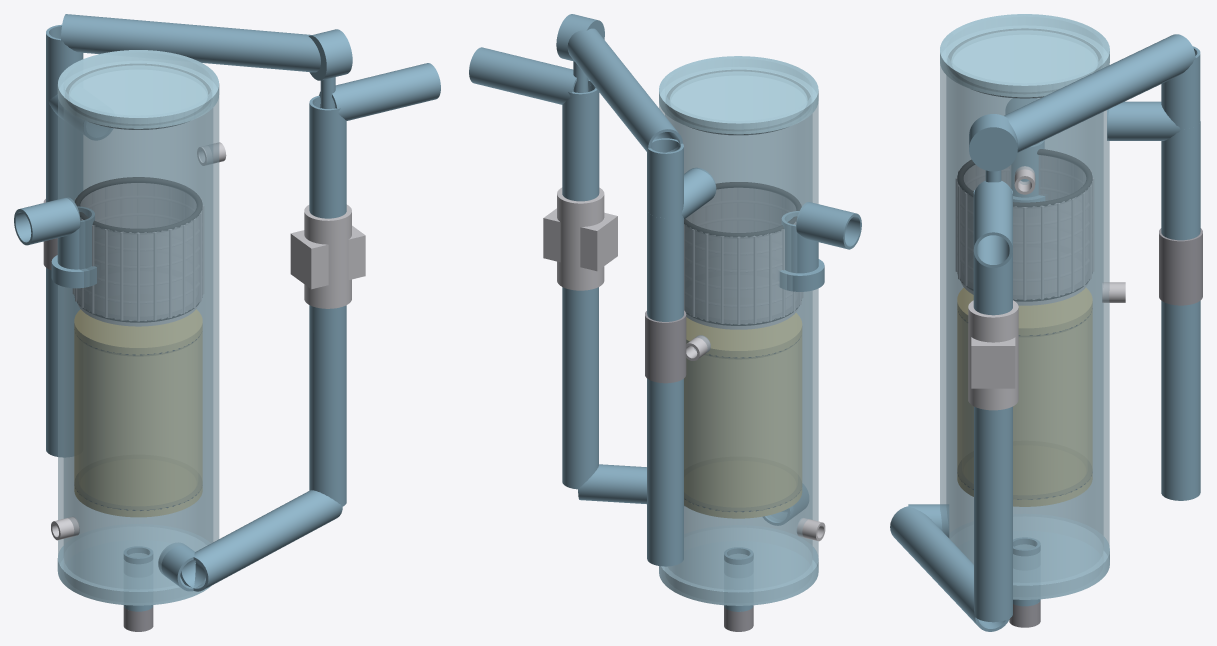
Rendered from microfiber_filter_v5.glb.
3 views of the same model, side by side, from view 1: azimuth 30°, elevation 25°; view 2: azimuth 150°, elevation 25°; view 3: azimuth 270°, elevation 25° (orthographic). The views are drawn at different scales.
Parts seen in each view (by area): view 1: Housing_Wall, Stage2_Cartridge_Wall, Stage1_Basket_Ring, Housing_Lid, Bypass_Return_After_Sensor, Gooseneck_Rising_Leg, Housing_Base, Gooseneck_Transfer, Bypass_Return_Vertical, Flow_Sensor_Downstream_Straight, Final_Outlet, Stage2_Top_Support (+15 smaller); view 2: Housing_Wall, Stage2_Cartridge_Wall, Stage1_Basket_Ring, Housing_Lid, Housing_Base, Gooseneck_Rising_Leg, Bypass_Return_Vertical, Bypass_Lower_Pipe, Bypass_Return_After_Sensor, Bypass_Vertical, Final_Outlet, Flow_Sensor_Downstream_Straight (+16 smaller); view 3: Housing_Wall, Stage2_Cartridge_Wall, Housing_Lid, Stage1_Basket_Ring, Gooseneck_Rising_Leg, Bypass_Return_Vertical, Bypass_Return_After_Sensor, Housing_Base, Bypass_Vertical, Bypass_Lower_Pipe, Gooseneck_Transfer, Final_Outlet (+17 smaller).
Part boxes in pixels (box(x1,y1,x2,y2)): Housing_Wall: box(58, 50, 219, 605); Stage2_Cartridge_Wall: box(74, 331, 202, 510); Stage1_Basket_Ring: box(74, 183, 202, 320); Housing_Lid: box(57, 50, 219, 128); Bypass_Return_After_Sensor: box(61, 14, 320, 72); Gooseneck_Rising_Leg: box(309, 100, 346, 506); Housing_Base: box(57, 524, 210, 605); Gooseneck_Transfer: box(180, 490, 342, 591); Bypass_Return_Vertical: box(46, 24, 83, 457); Flow_Sensor_Downstream_Straight: box(309, 95, 346, 218); Final_Outlet: box(319, 63, 440, 120); Stage2_Top_Support: box(74, 309, 202, 354); Housing_Wall: box(659, 56, 818, 605); Stage2_Cartridge_Wall: box(684, 335, 801, 511); Stage1_Basket_Ring: box(685, 188, 799, 323); Housing_Lid: box(659, 56, 818, 134); Housing_Base: box(659, 525, 818, 605); Gooseneck_Rising_Leg: box(562, 84, 598, 489); Bypass_Return_Vertical: box(647, 138, 683, 566); Bypass_Lower_Pipe: box(647, 378, 683, 566); Bypass_Return_After_Sensor: box(567, 28, 682, 152); Bypass_Vertical: box(648, 213, 683, 472); Final_Outlet: box(469, 47, 588, 104); Flow_Sensor_Downstream_Straight: box(562, 80, 599, 201); Housing_Wall: box(940, 14, 1109, 599); Stage2_Cartridge_Wall: box(957, 310, 1092, 499); Housing_Lid: box(940, 14, 1109, 97); Stage1_Basket_Ring: box(957, 155, 1092, 299); Gooseneck_Rising_Leg: box(974, 256, 1012, 622); Bypass_Return_Vertical: box(1161, 46, 1200, 500); Bypass_Return_After_Sensor: box(1004, 34, 1195, 152); Housing_Base: box(950, 514, 1109, 599); Bypass_Vertical: box(1161, 121, 1200, 400); Bypass_Lower_Pipe: box(1161, 301, 1200, 500); Gooseneck_Transfer: box(890, 506, 1009, 631); Final_Outlet: box(973, 180, 1012, 267).
Size of the model in its own units: 0.304 by 0.4135 by 0.1986.
